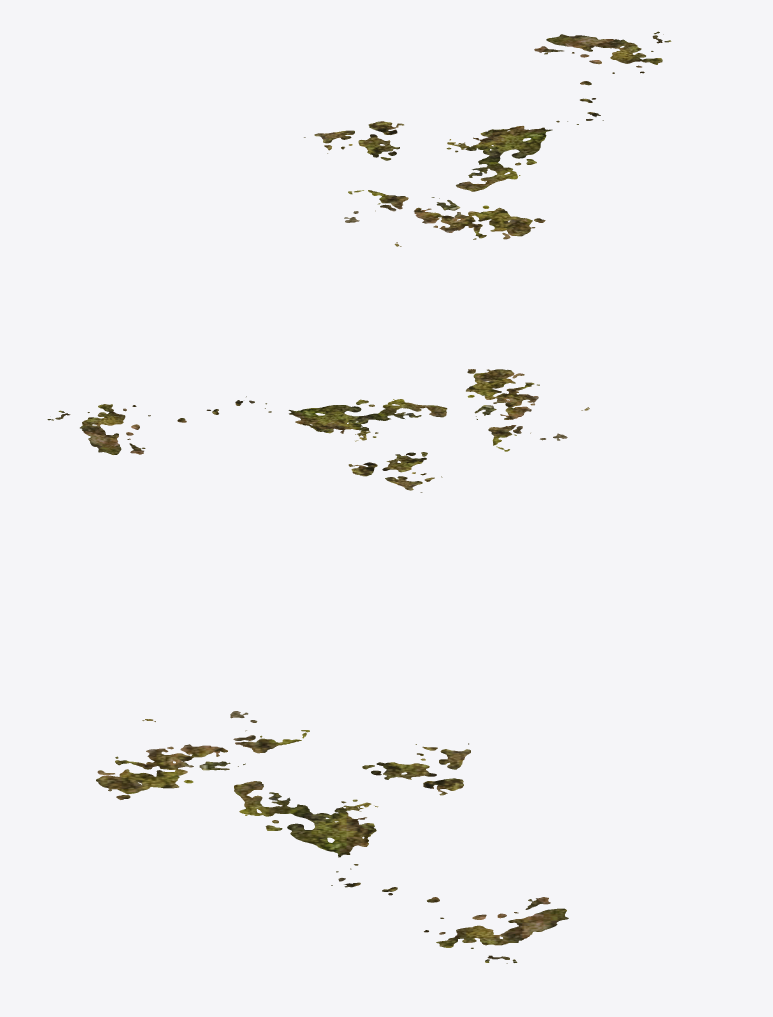
Rendered from moss_float09_sway.dae.
3 views of the same model, one above another, from view 1: azimuth 30°, elevation 25°; view 2: azimuth 150°, elevation 25°; view 3: azimuth 270°, elevation 25° (orthographic). The views are drawn at different scales.
Visible parts, largest first — view 1: 09; view 2: 09; view 3: 09.
Part boxes in pixels (<box>): 09: <box>304,31,671,246</box>; 09: <box>47,369,589,492</box>; 09: <box>96,711,568,963</box>.
Size of the model in its own units: 1.9 by 0 by 1.67.
